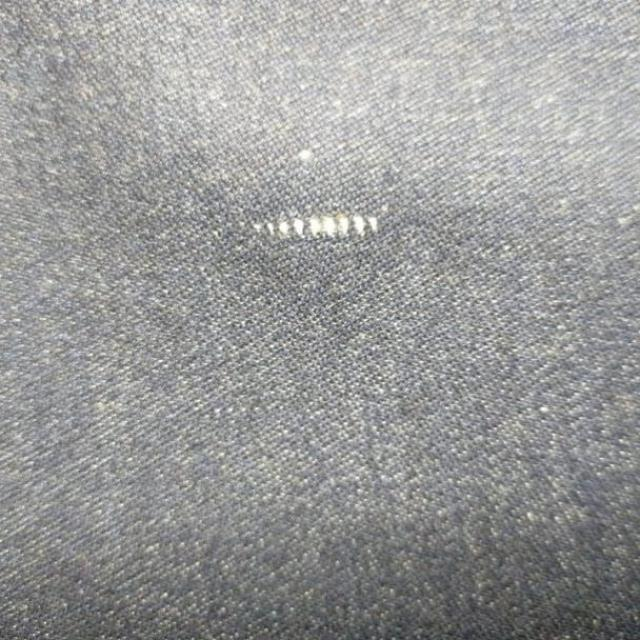Knot: (251, 214, 379, 239)
